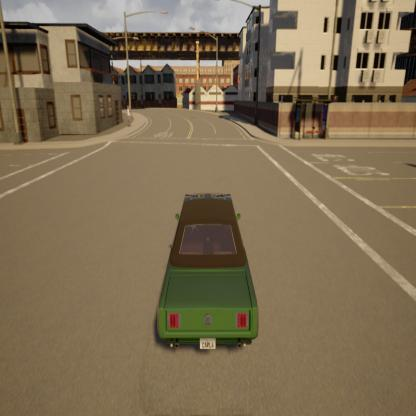Cars: (152, 185, 263, 361)
Pedestrian: (124, 104, 133, 130)
